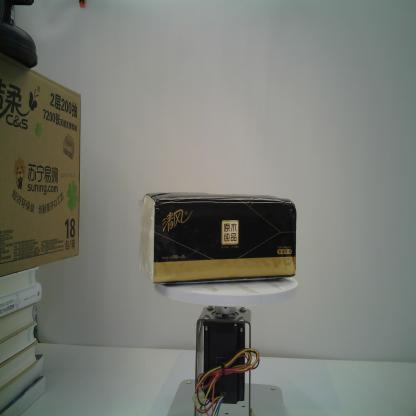Tissue: (138, 190, 298, 284)
